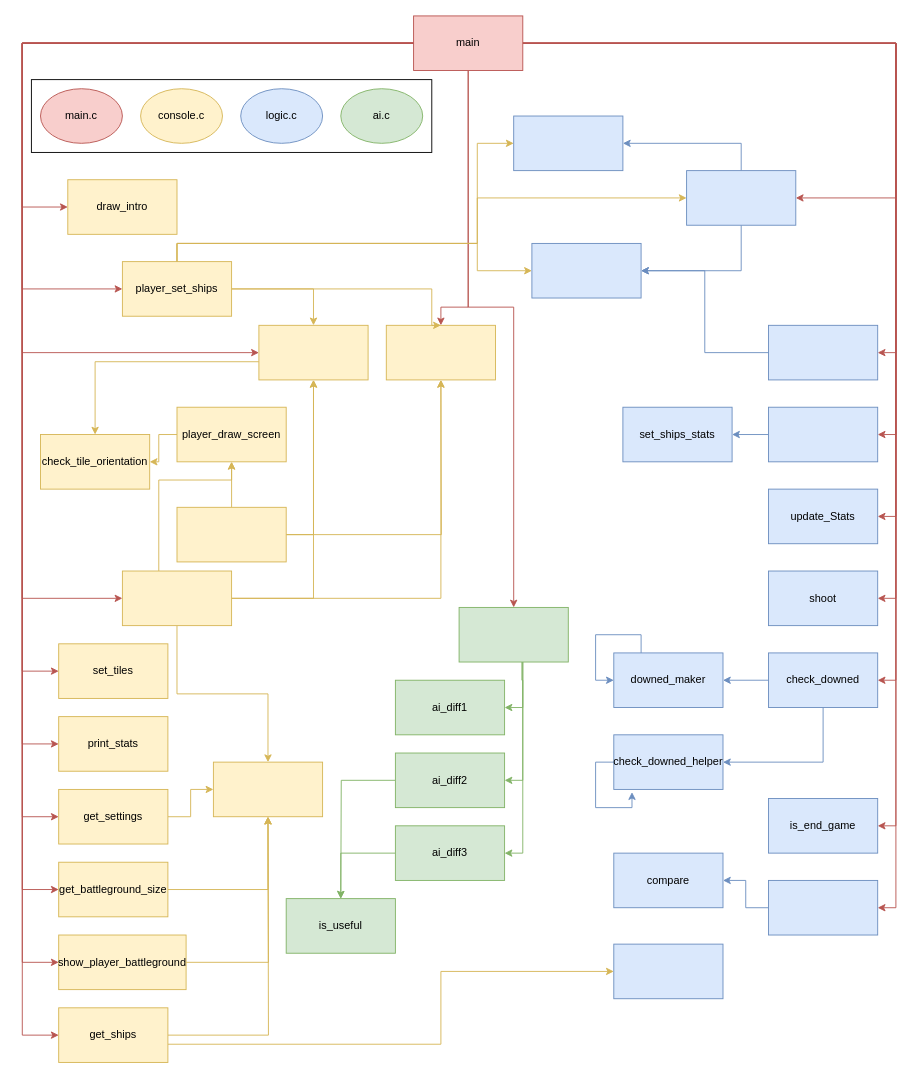
Image size: 919x1078. Some labels were removed from this diagram. Here are the shapes that lost their labels. From the top down, the centre of each, then its label:
the point at 568,143: set_ships
the point at 741,197: rand_set_ships
the point at 586,270: reset_battleground
the point at 313,352: draw_screen
the point at 440,352: clear_sreen
the point at 823,352: init_battleground
the point at 823,434: init_stats
the point at 231,534: player_move
the point at 176,598: response
the point at 513,634: get_ai_turn
the point at 267,789: flush
the point at 823,907: qsort
the point at 668,971: ship_mass_validation
